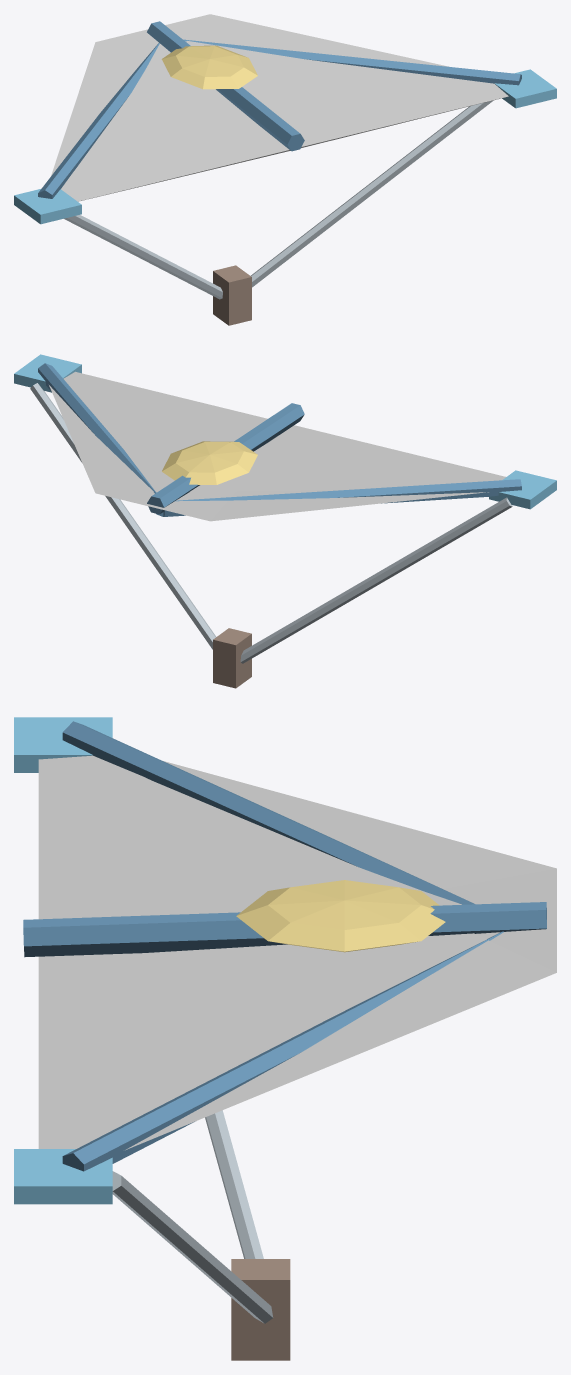
Rendered from planeador.glb.
3 renders of one model, top to bottom at view 1: azimuth 30°, elevation 25°; view 2: azimuth 150°, elevation 25°; view 3: azimuth 270°, elevation 25°, orthographic. The views are drawn at different scales.
Parts seen in each view (by area): view 1: planeador; view 2: planeador; view 3: planeador.
Part boxes in pixels (x1,y1,x2,y2): planeador: (14,14,556,325); planeador: (14,354,556,688); planeador: (14,717,556,1360).
Size of the model in its own units: 2.25 by 1 by 1.1.
